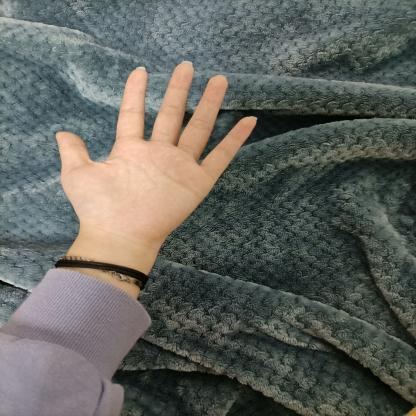bare_hand: (37, 46, 266, 262)
